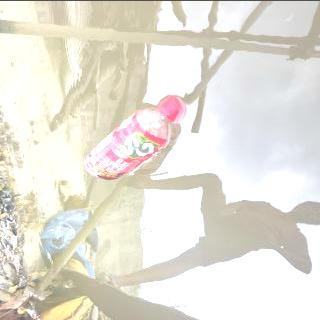bottle: (78, 92, 188, 180)
